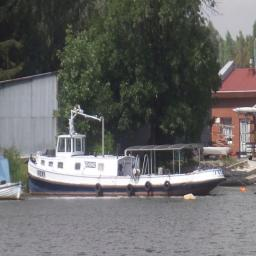tugboat: (24, 103, 230, 207)
